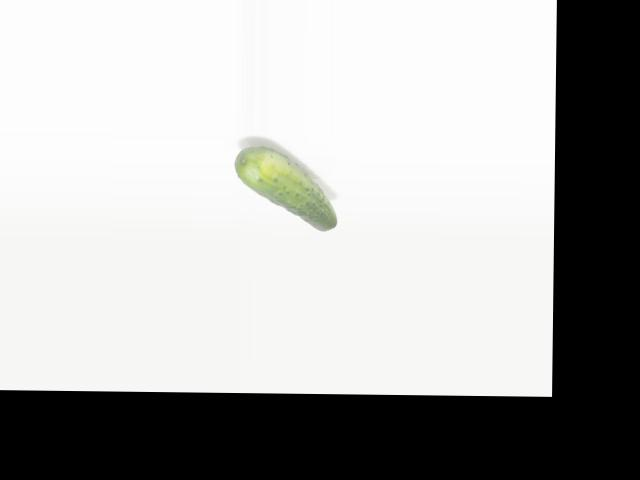cucumber: (234, 147, 338, 231)
